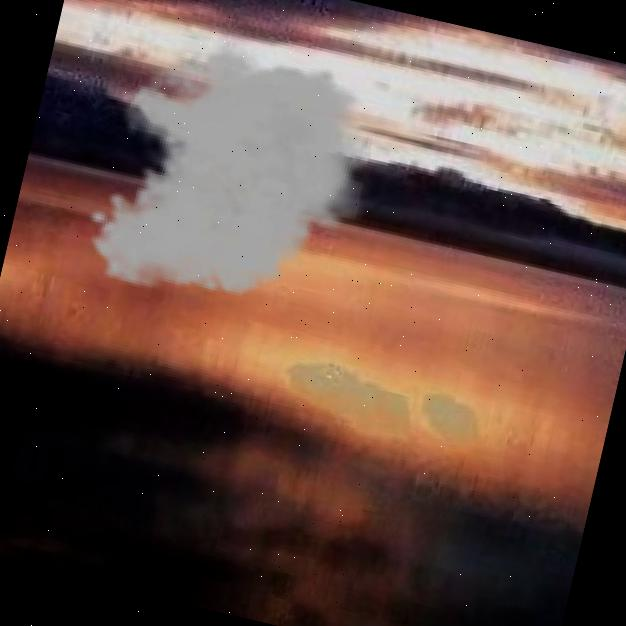smoke: (73, 8, 405, 337)
